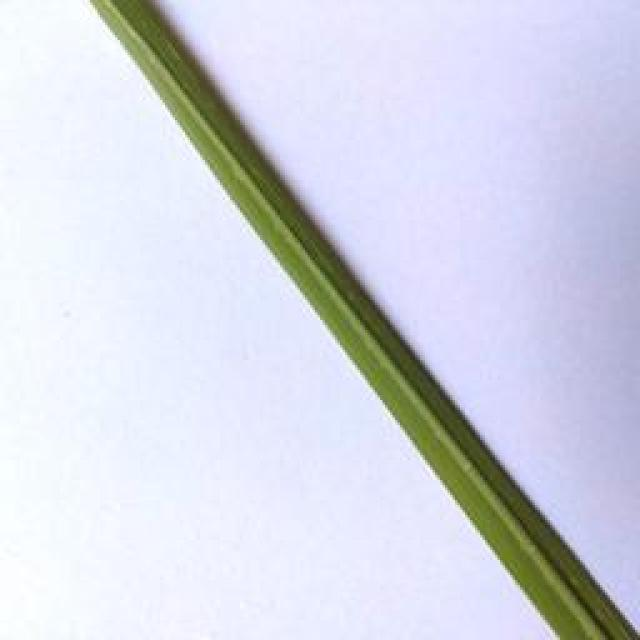Healthy-Plant: (92, 0, 636, 640)
